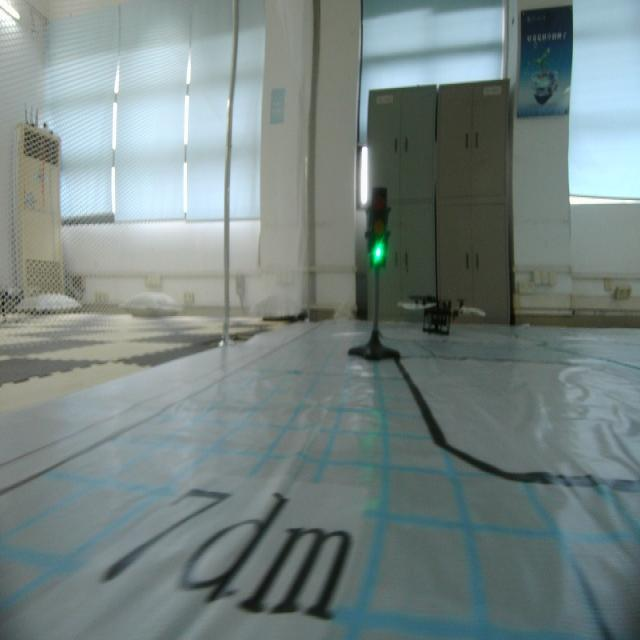green: (368, 185, 391, 270)
